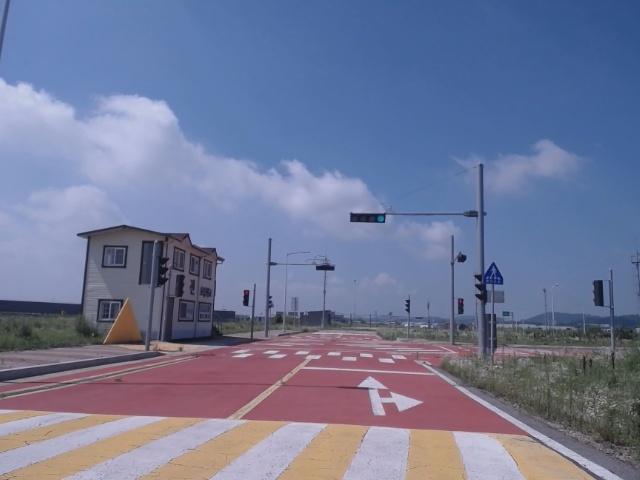straight_green_4: (350, 214, 386, 223)
